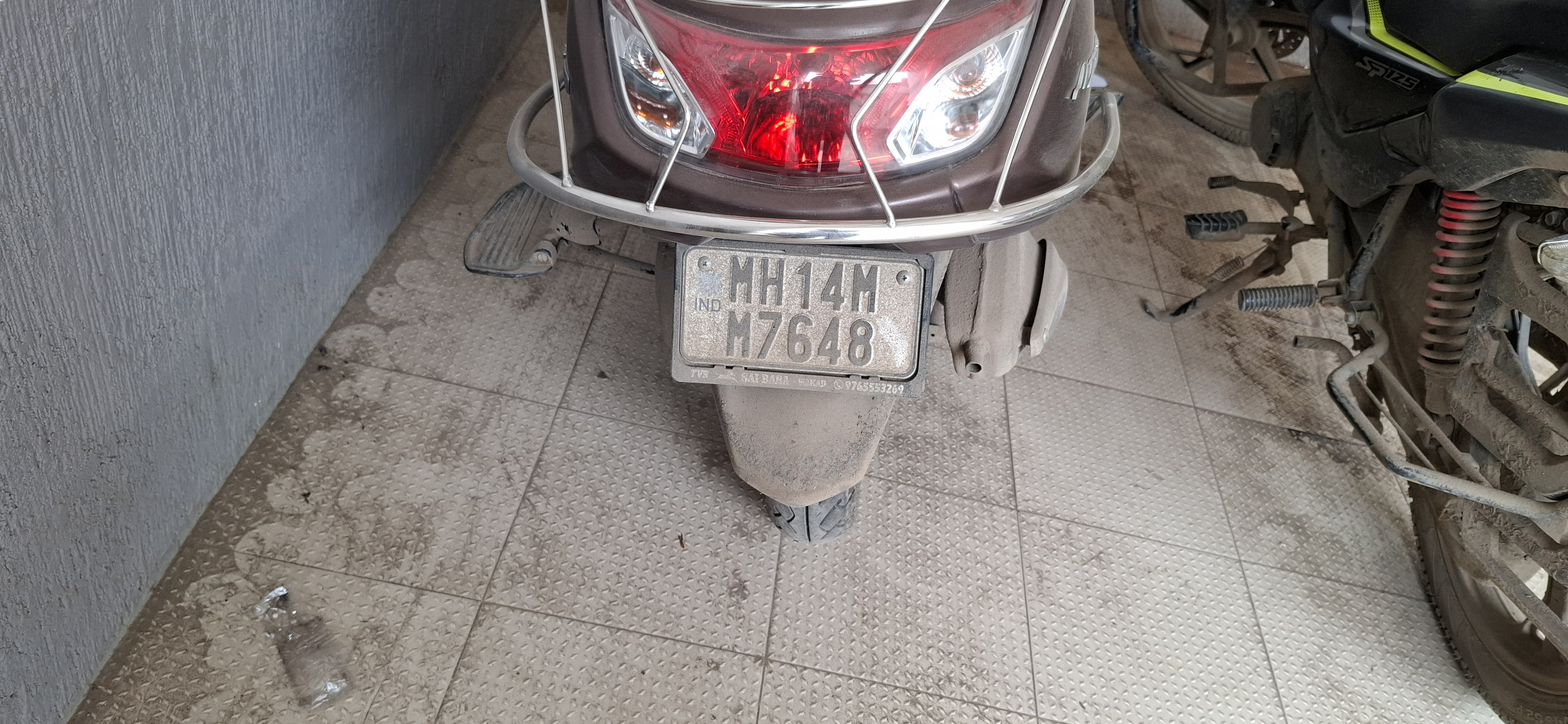license_plate: (1109, 6, 1567, 710), (1246, 6, 1567, 711)
